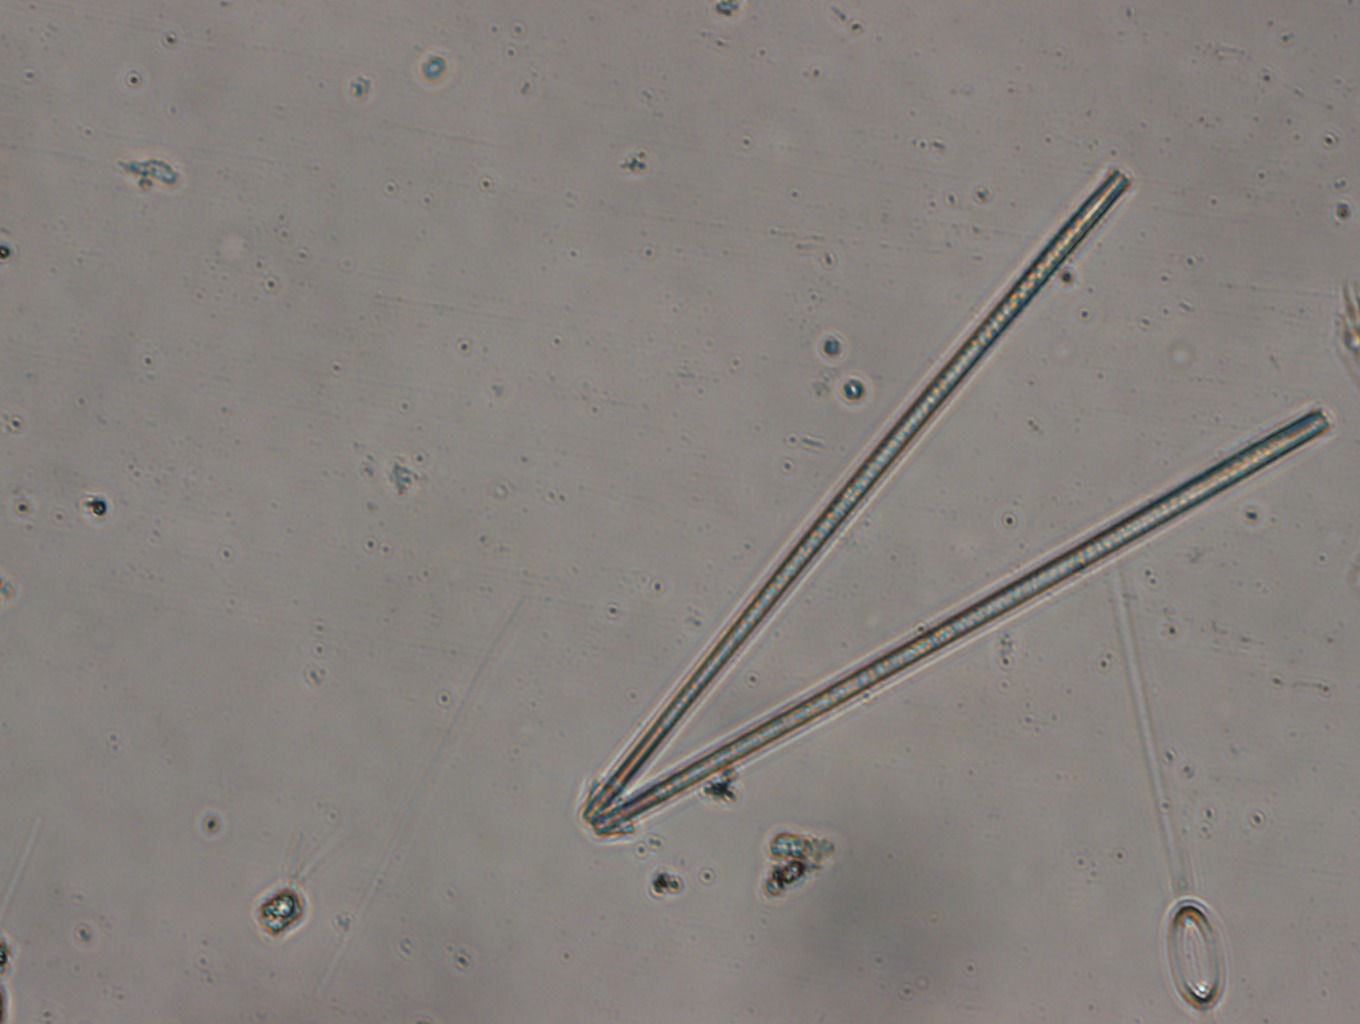thalassionema frauenfeldii: (572, 172, 1333, 841)
